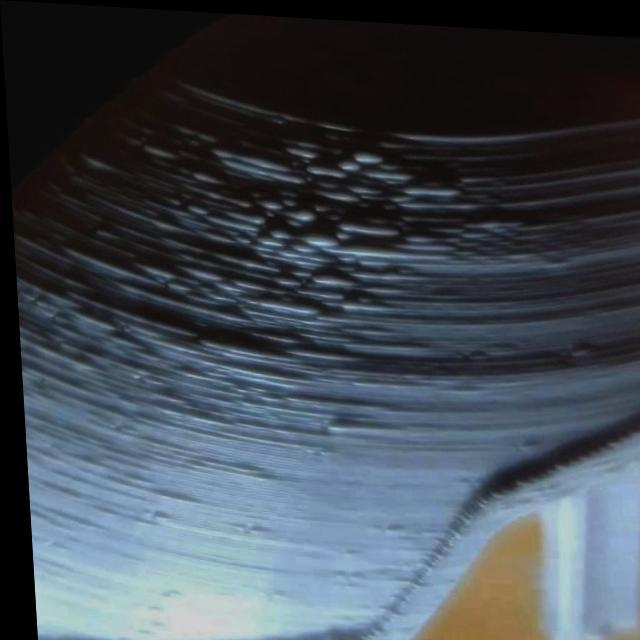zits: (296, 222, 334, 250), (330, 152, 365, 180), (348, 142, 385, 166), (284, 200, 317, 226), (262, 219, 297, 243), (304, 155, 334, 182), (306, 261, 337, 286), (268, 264, 300, 288), (252, 188, 280, 215), (249, 228, 280, 247), (182, 198, 206, 220)
